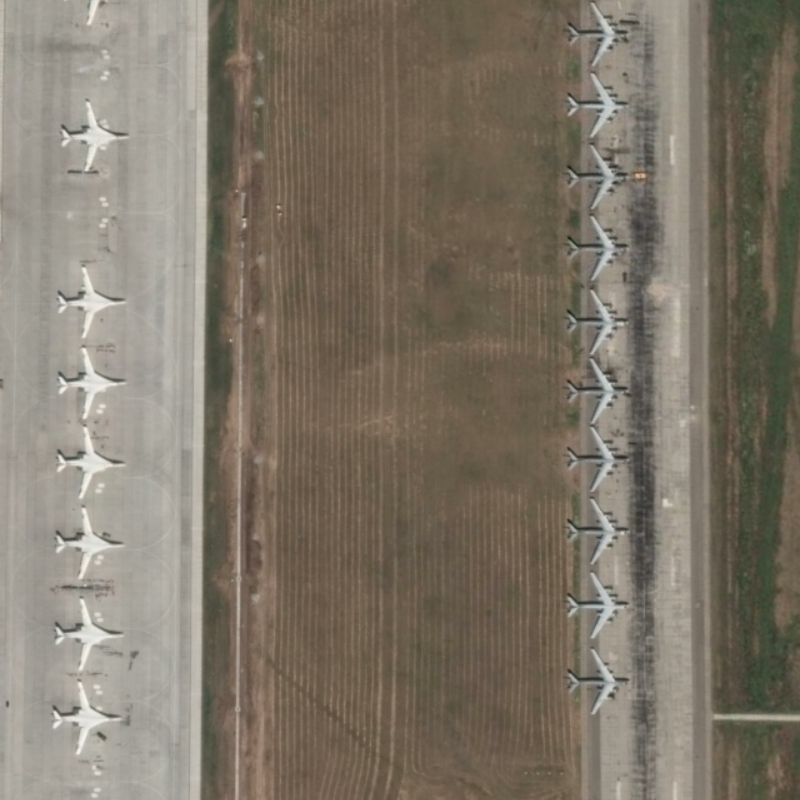A17: (562, 496, 635, 568), (562, 141, 636, 212), (563, 645, 633, 719), (561, 286, 632, 358), (564, 569, 633, 642), (560, 357, 631, 426), (566, 211, 634, 283), (564, 2, 633, 70), (565, 425, 632, 495), (564, 71, 631, 140)
A6: (50, 591, 125, 675), (48, 678, 126, 758), (55, 422, 131, 503), (57, 95, 132, 176), (54, 262, 129, 341), (56, 343, 129, 422), (53, 504, 128, 580)
